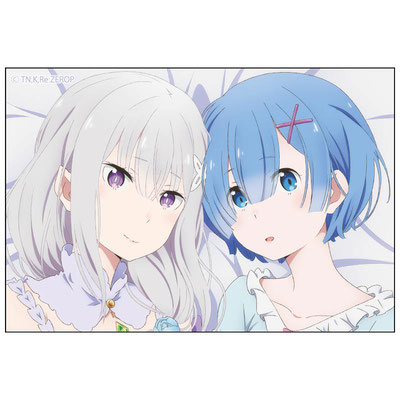rem: (199, 72, 394, 332)
